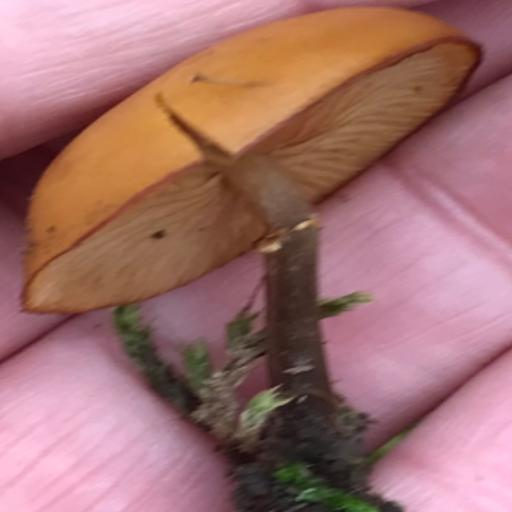mushroom: (27, 6, 489, 445)
